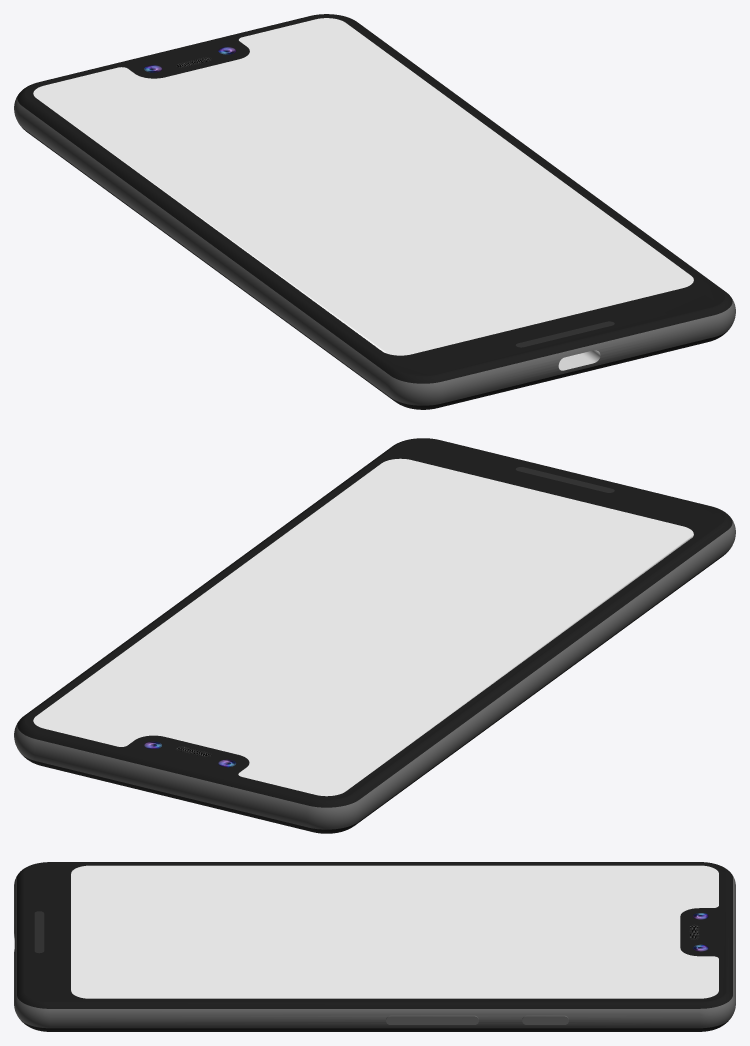
File: Pixel 3 XL.glb
3 renders of one model, top to bottom at view 1: azimuth 30°, elevation 25°; view 2: azimuth 150°, elevation 25°; view 3: azimuth 270°, elevation 25°, orthographic. The views are drawn at different scales.
Visible parts, largest first — view 1: object.006, object.007, object.000; view 2: object.006, object.007, object.000; view 3: object.006, object.007, object.000, object.001.
Boxes of the visible parts, x1,y1,x2,y2 form: object.006: (33, 18, 693, 355); object.007: (17, 14, 732, 409); object.000: (14, 95, 735, 405); object.006: (33, 458, 693, 796); object.007: (17, 438, 732, 833); object.000: (14, 519, 735, 829); object.006: (71, 865, 718, 998); object.007: (17, 862, 732, 1031); object.000: (14, 875, 735, 1028); object.001: (34, 911, 44, 953).
Size of the model in its own units: 0.0774 by 0.0085 by 0.1593.
Materials: 9 (3 with a texture image).
